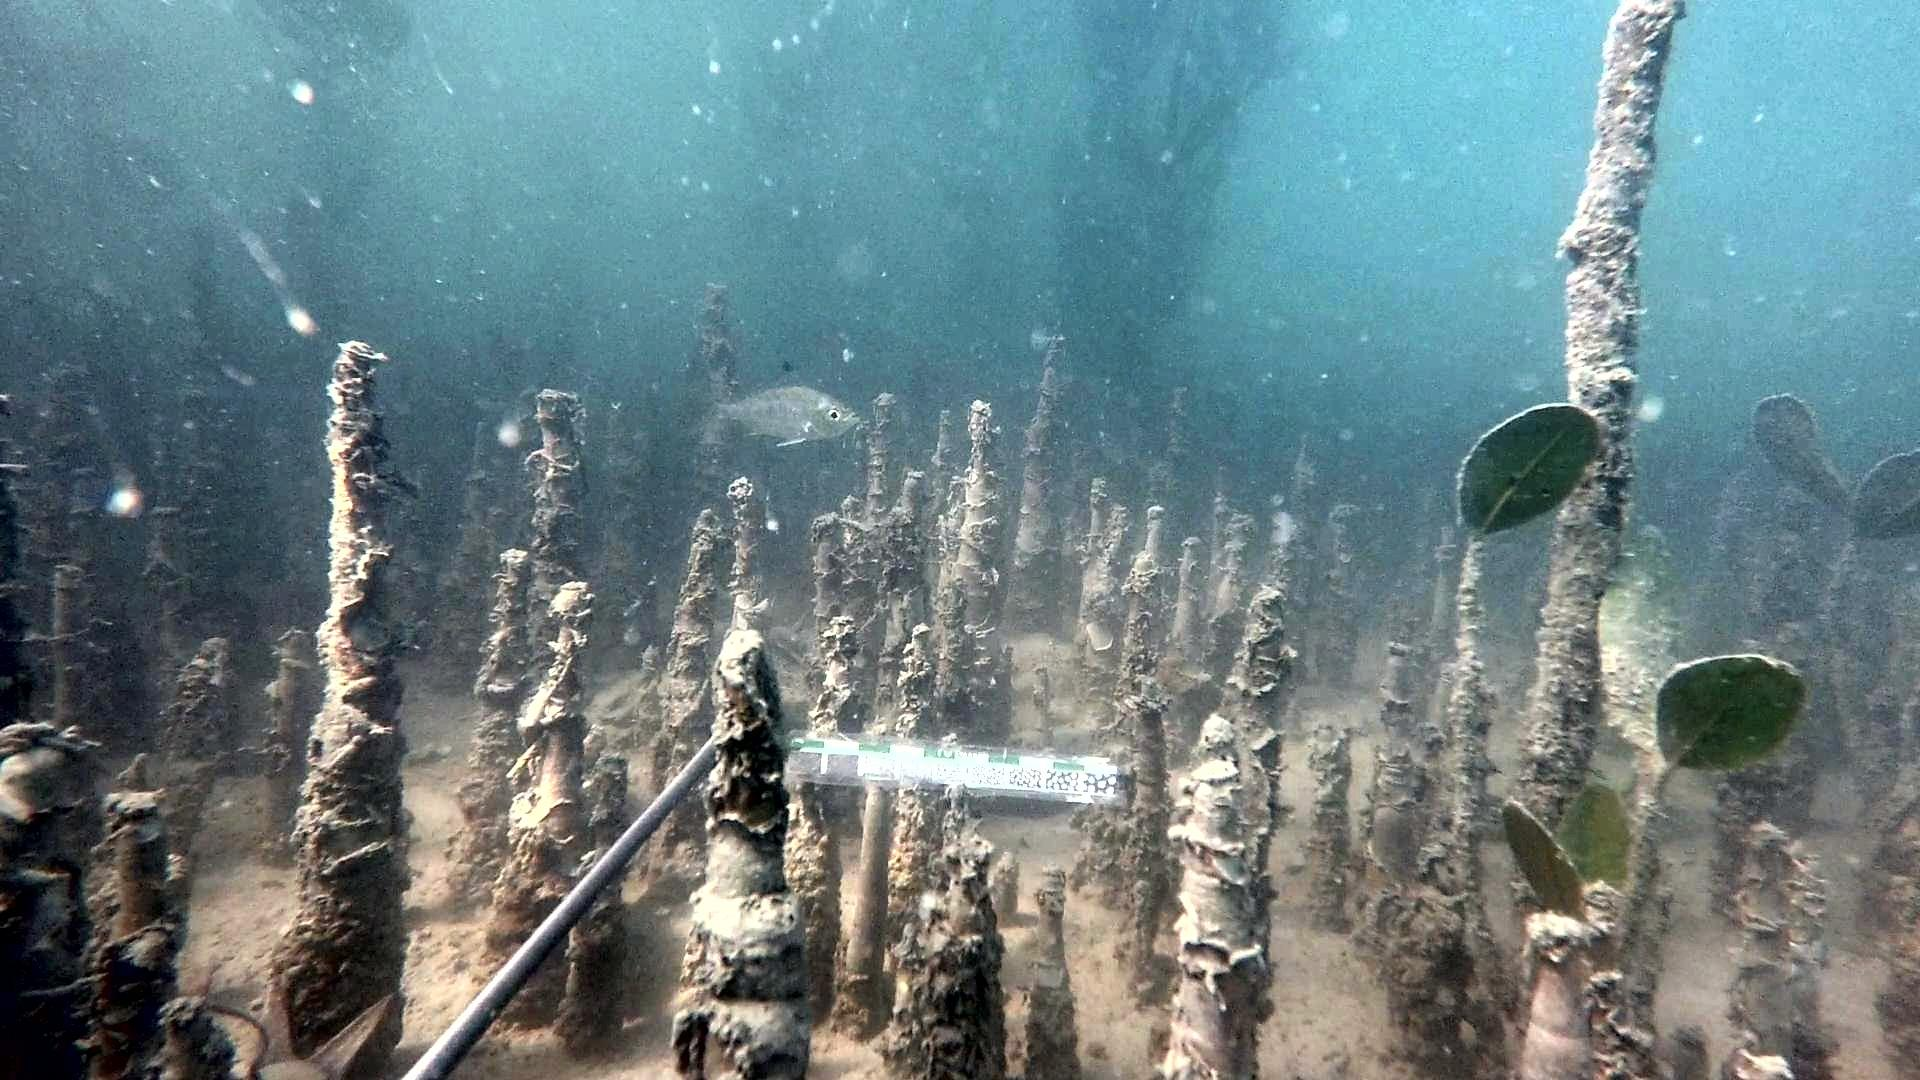gerres: (680, 361, 862, 448)
